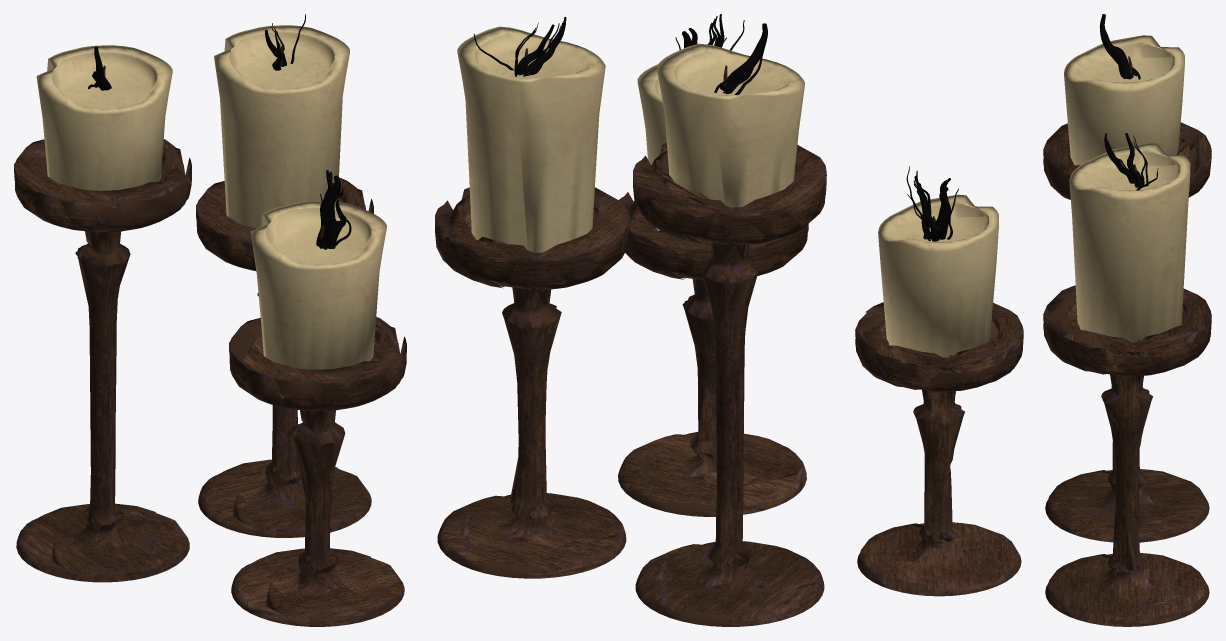
Rendered from candle 6.obj.
3 renders of one model, left to right at view 1: azimuth 30°, elevation 25°; view 2: azimuth 150°, elevation 25°; view 3: azimuth 270°, elevation 25°, orthographic. The views are drawn at different scales.
Visible parts, largest first — view 1: directionalLight2; view 2: directionalLight2; view 3: directionalLight2.
Boxes of the visible parts, box(x1,y1,x2,y2) form: directionalLight2: box(14, 14, 406, 626); directionalLight2: box(435, 14, 826, 626); directionalLight2: box(855, 14, 1211, 626).
Size of the model in its own units: 4.11 by 5.98 by 3.99.
6 materials, 3 textured.
